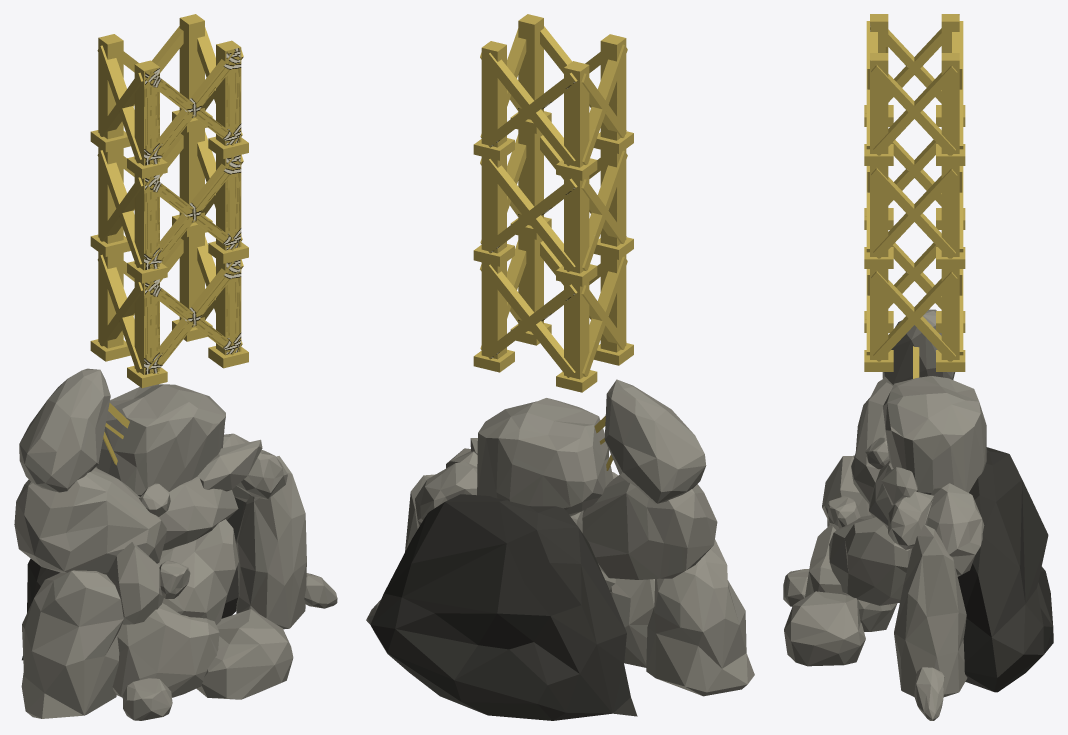
3 views of the same model, side by side, from view 1: azimuth 30°, elevation 25°; view 2: azimuth 150°, elevation 25°; view 3: azimuth 270°, elevation 25° (orthographic). The views are drawn at different scales.
Parts seen in each view (by area): view 1: Base, Expansion3, Expansion1, Expansion2; view 2: Base, Expansion3, Expansion2, Expansion1; view 3: Base, Expansion3, Expansion1, Expansion2.
Boxes of the visible parts, <box> form: Base: <box>14,368,337,720</box>; Expansion3: <box>90,14,248,178</box>; Expansion1: <box>90,233,248,388</box>; Expansion2: <box>90,128,248,283</box>; Base: <box>366,379,754,720</box>; Expansion3: <box>473,14,633,180</box>; Expansion2: <box>473,129,633,286</box>; Expansion1: <box>473,235,633,392</box>; Base: <box>783,309,1053,720</box>; Expansion3: <box>864,14,965,165</box>; Expansion1: <box>864,242,965,371</box>; Expansion2: <box>864,139,965,268</box>.
Size of the model in its own units: 3.99 by 6.87 by 2.76.
Materials: 6 (3 with a texture image).
